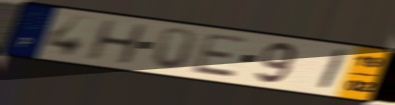0: (150, 27, 200, 72)
4: (45, 14, 86, 59)
9: (253, 41, 298, 85)
E: (189, 32, 252, 80)
H: (83, 19, 149, 67)
I: (314, 47, 352, 92)
